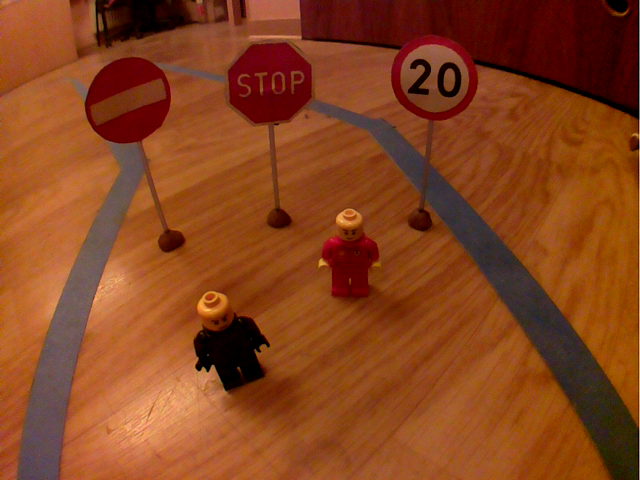Ograniczenie 20: (386, 31, 482, 126)
Postac LEGO: (187, 282, 276, 400), (314, 205, 385, 305)
Stop: (221, 34, 321, 130)
Zakaz: (82, 54, 175, 147)
